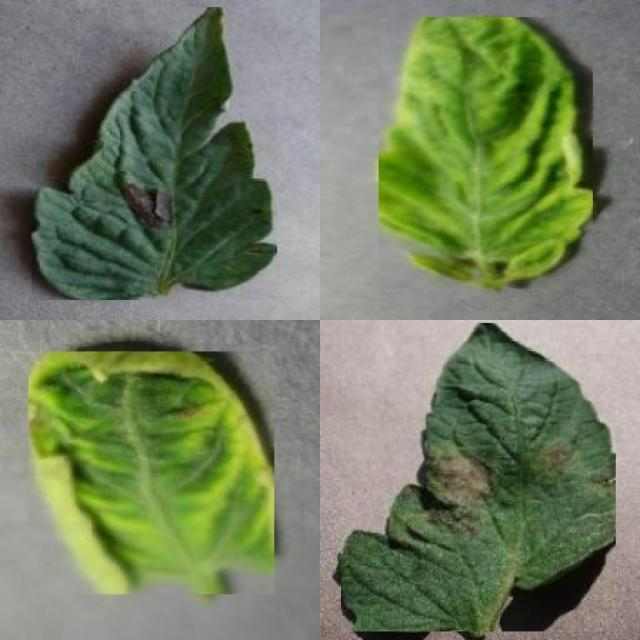Early Blight: (32, 7, 278, 300)
Late Blight: (340, 323, 616, 631)
Yellow Leaf Curl Virus: (29, 352, 274, 594), (378, 17, 593, 289)
